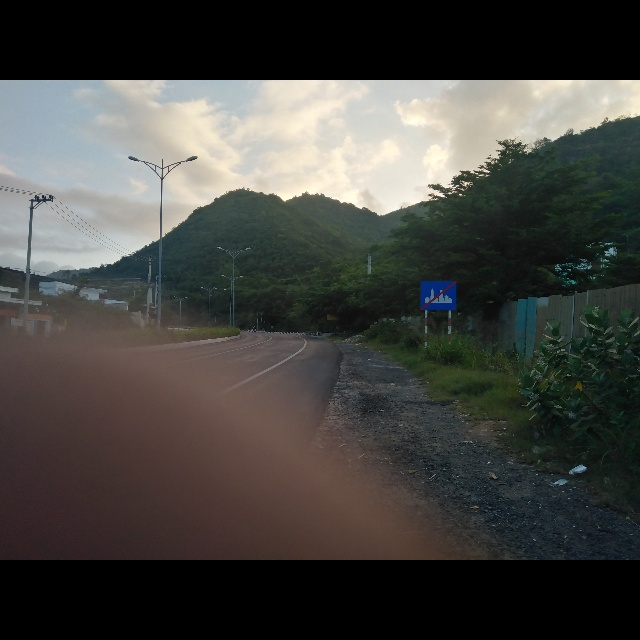Hết khu đông dân cư: (420, 279, 457, 311)
